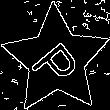P_NE: (26, 29, 86, 90)
